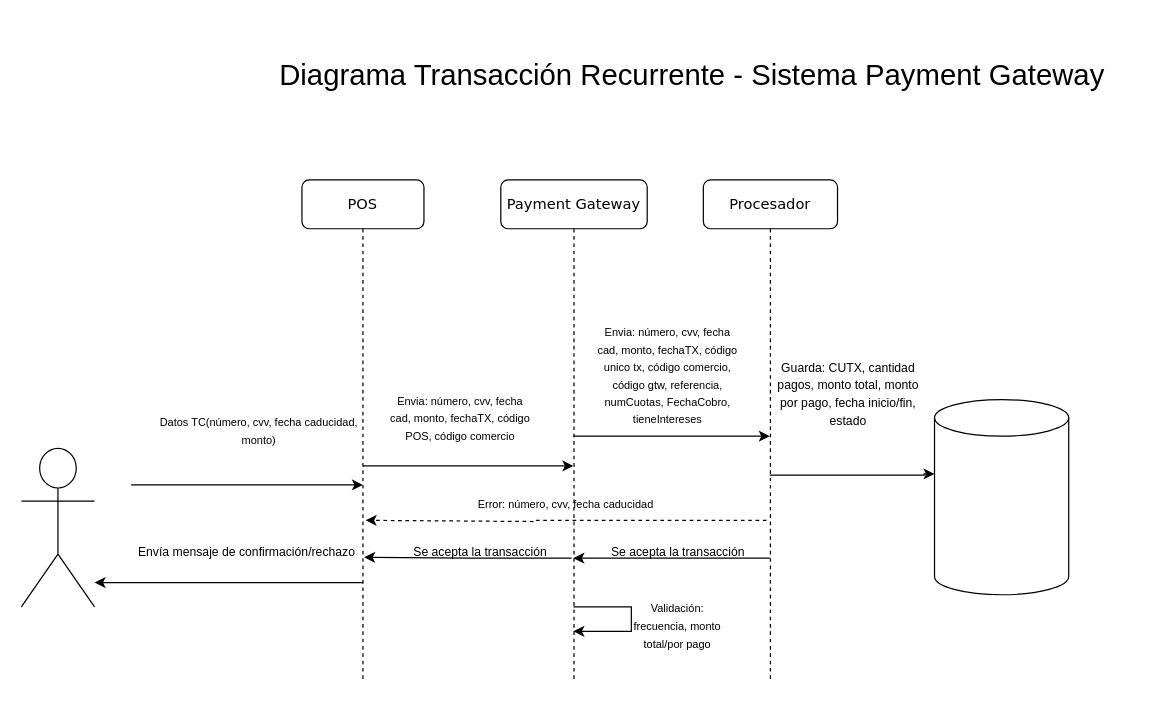
The diagram is 1153 pixels wide and 702 high, and some of its shapes have lost their labels. The shapes that lost their labels are listed below. From the top down, each one's centre as x and y in pixels, then its label:
At point (1001, 496): "Base de Datos (Payment Gateway)".
At point (57, 527): "Tarjeta".
